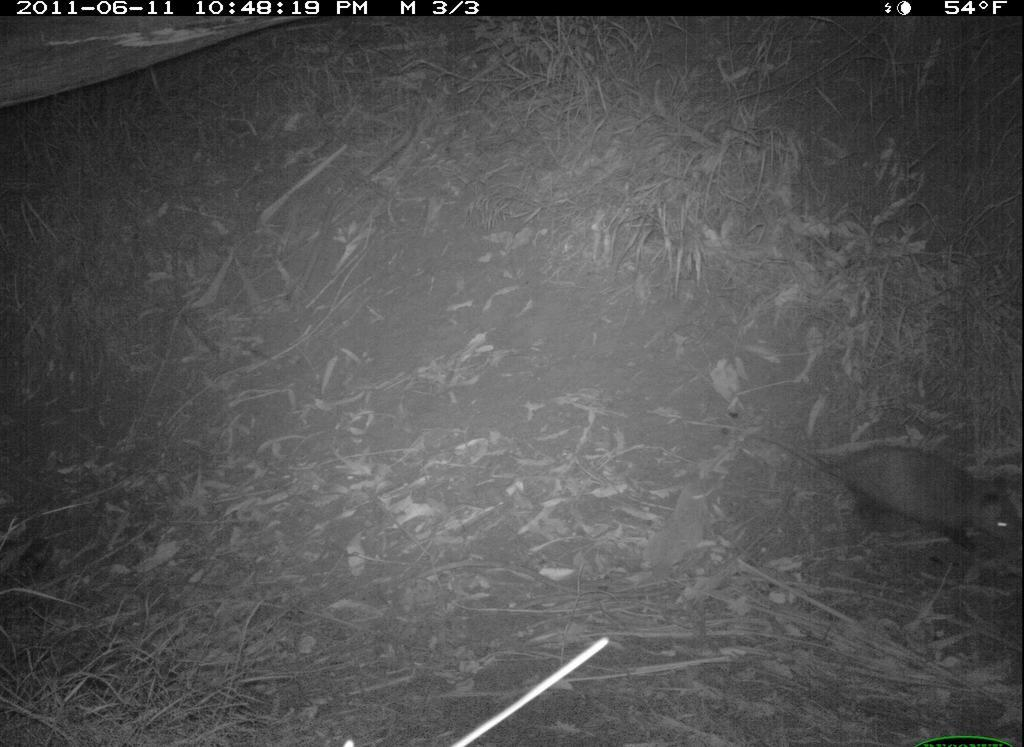opossum: (749, 423, 1023, 570)
